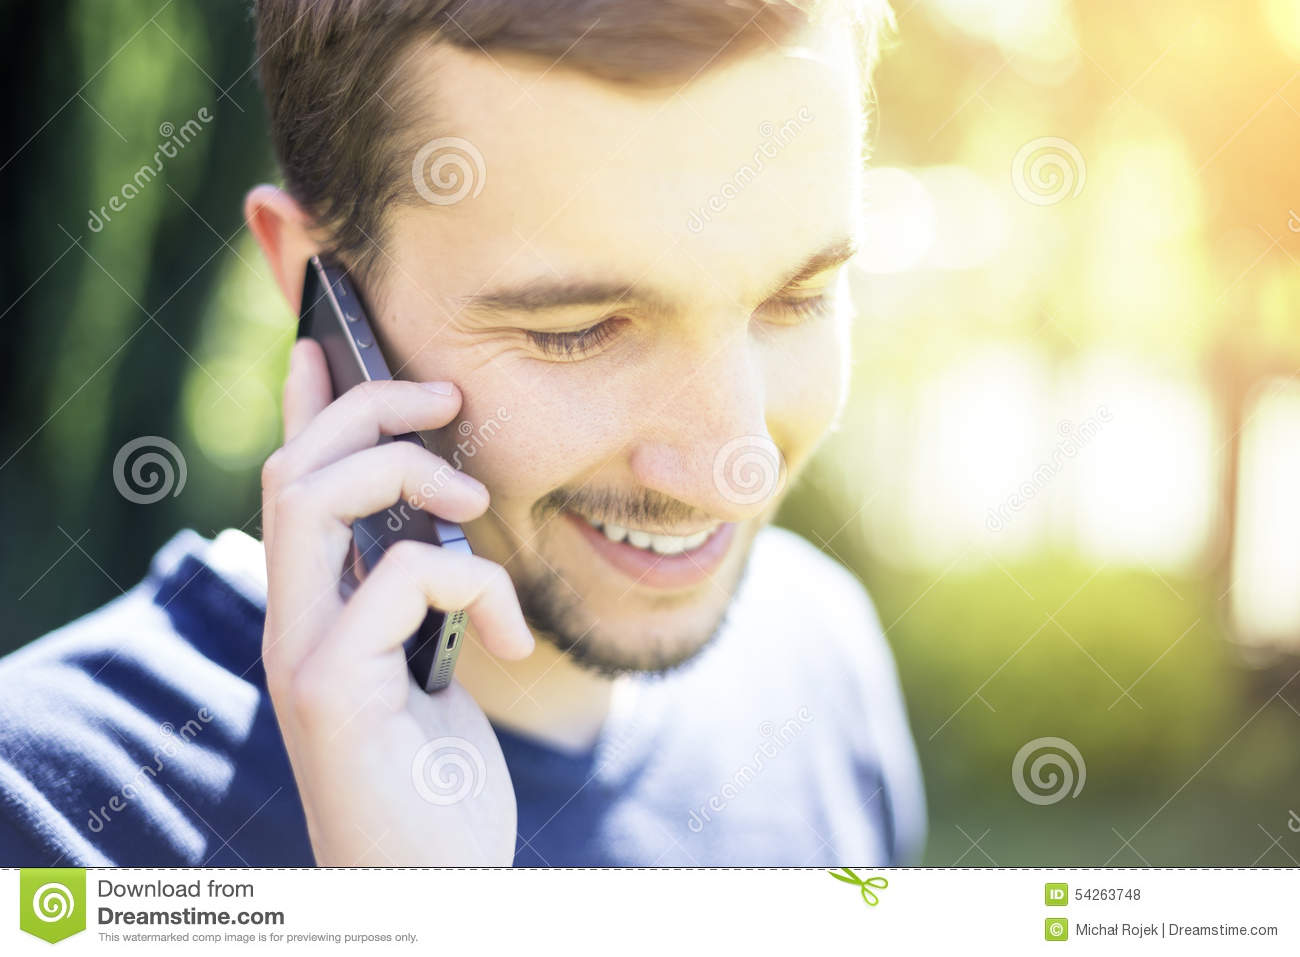phone: (288, 246, 473, 692)
talk: (258, 214, 857, 867)
